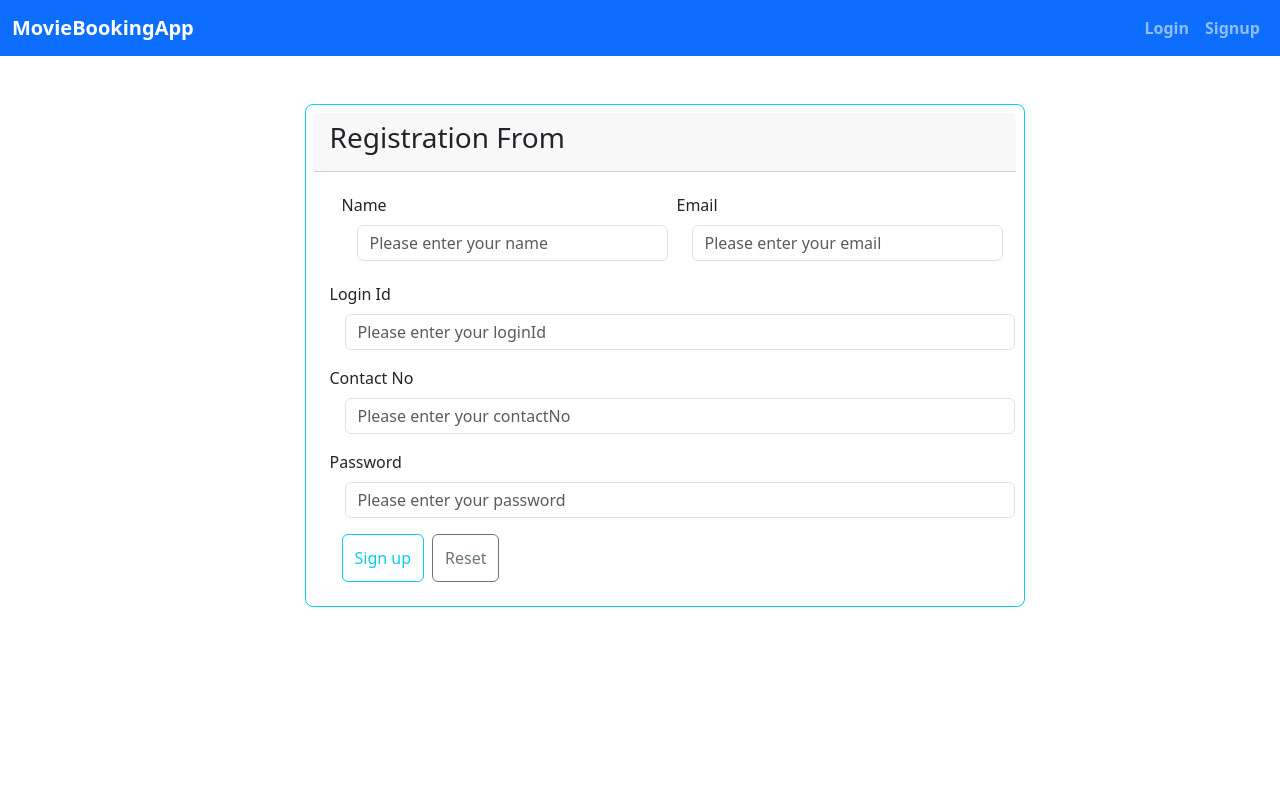
it: Signup Component › resets form fields
In the field labelled "Name": (512, 243) 356,225 -> 668,261, type "John Doe"
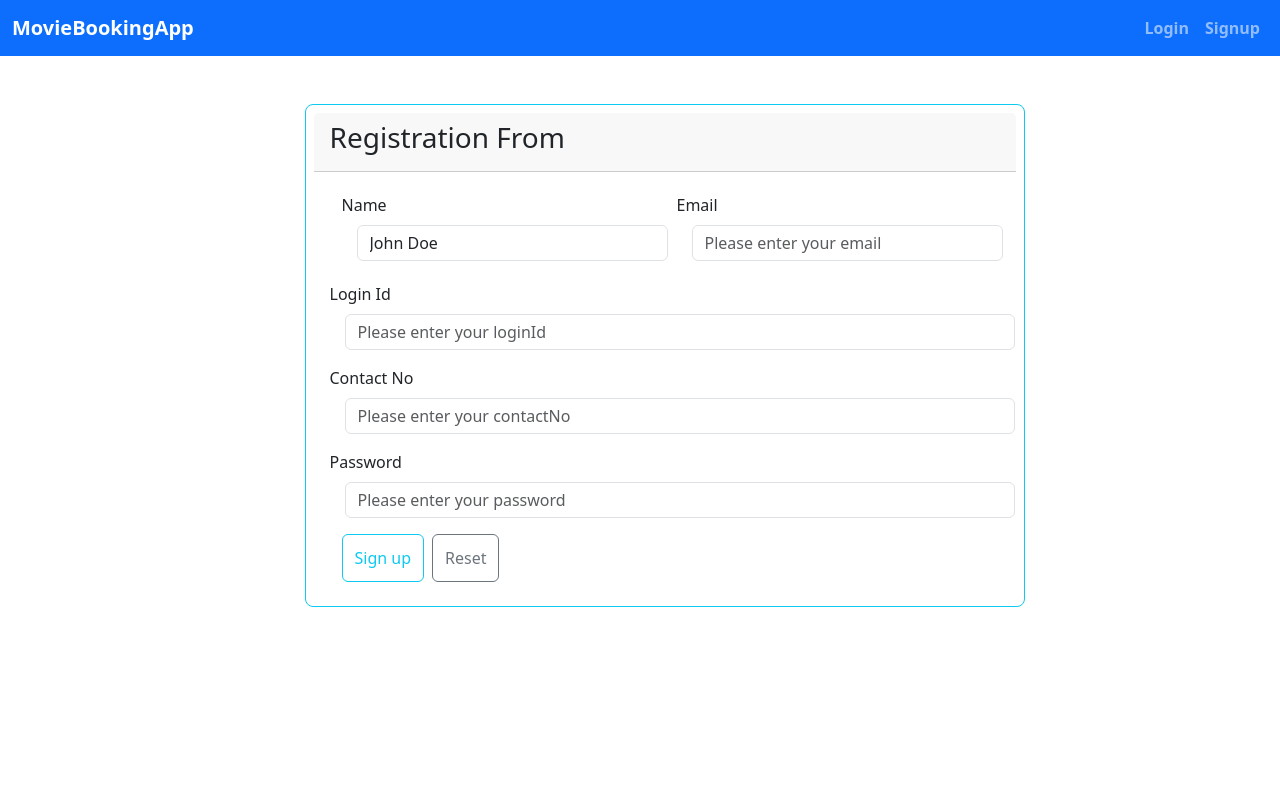
In the field labelled "Email": (847, 243) 692,225 -> 1002,261, type "john@example.com"
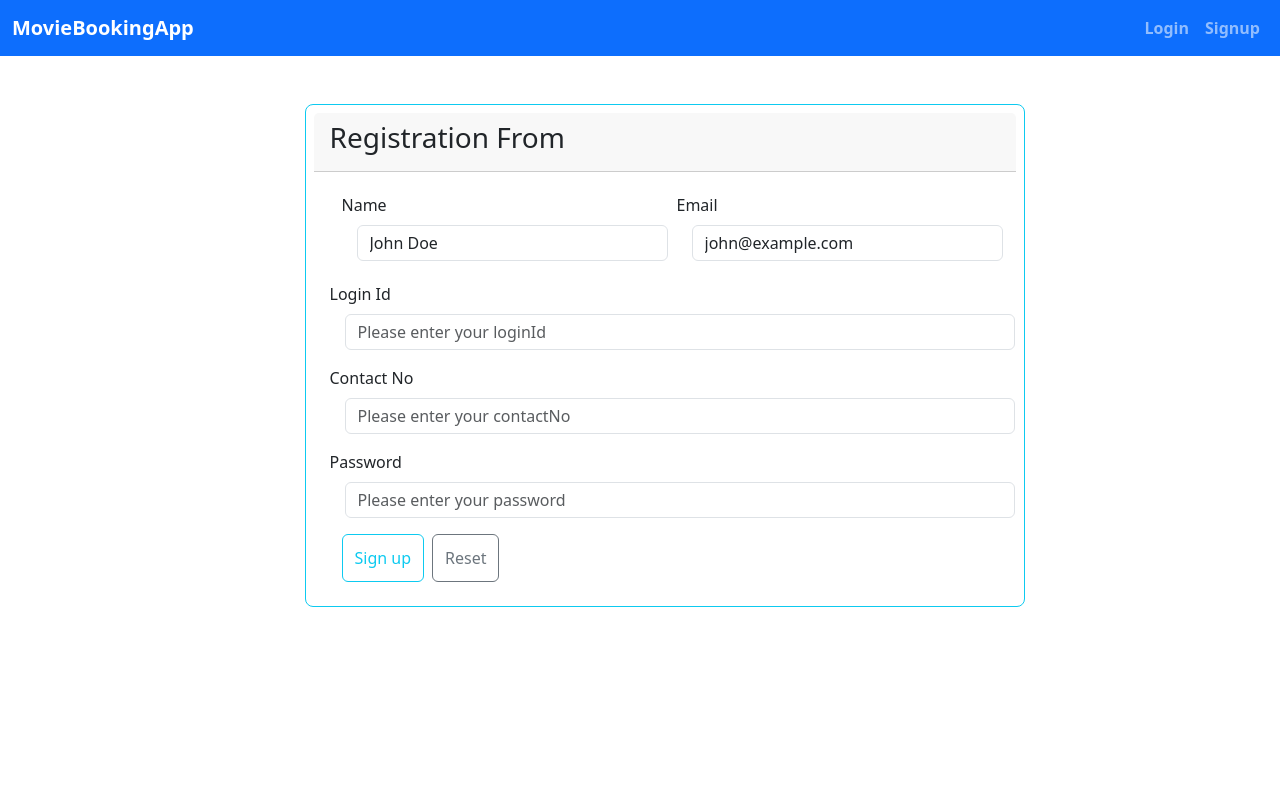
Click the button "Reset": click(466, 558) 432,534 -> 500,582
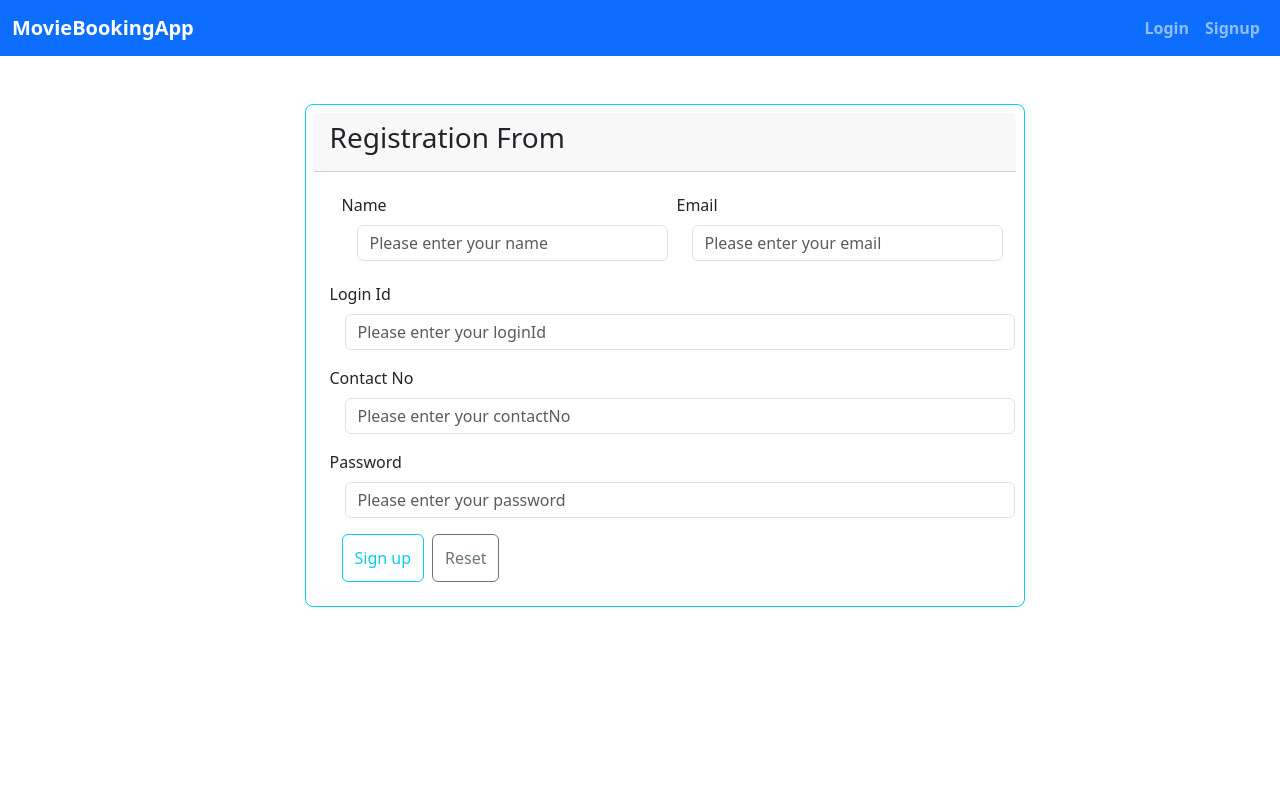
Now the field labelled "Name" is empty, box 356,225 -> 668,261
Now the field labelled "Email" is empty, box 692,225 -> 1002,261
